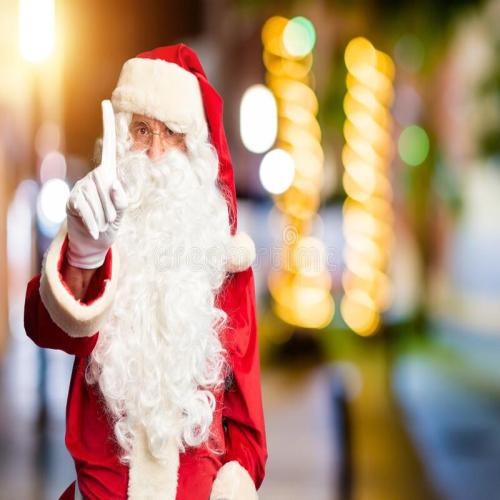Santa: (22, 43, 268, 498)
